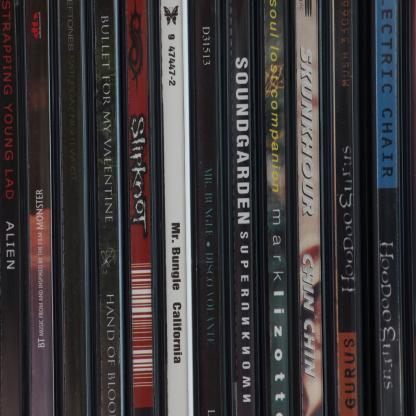book: (198, 0, 416, 416), (0, 0, 161, 415), (160, 0, 188, 414)
